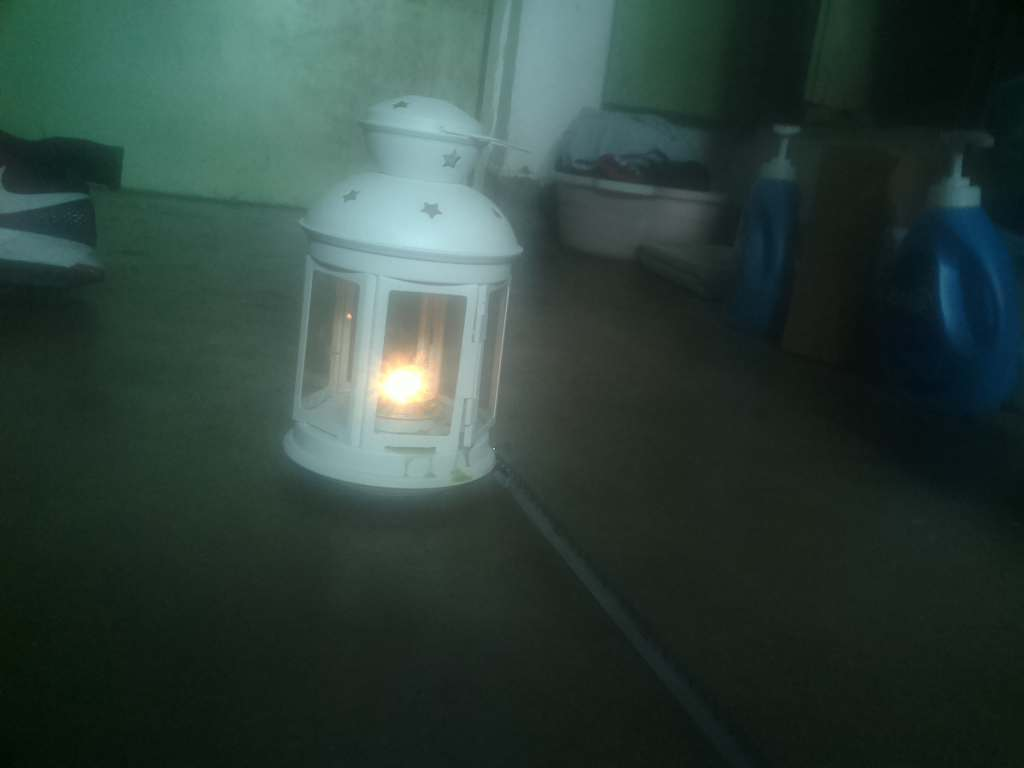fire: (351, 344, 458, 439)
